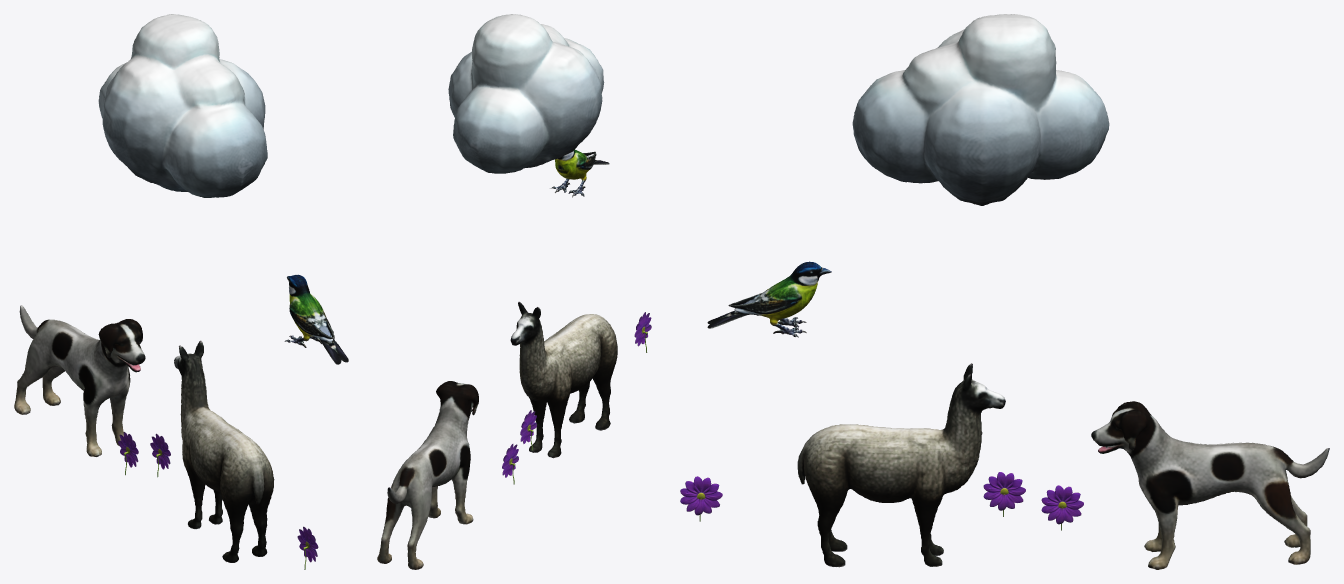
File: llama3.glb
3 renders of one model, left to right at view 1: azimuth 30°, elevation 25°; view 2: azimuth 150°, elevation 25°; view 3: azimuth 270°, elevation 25°, orthographic. The views are drawn at different scales.
Visible parts, largest first — view 1: Mesh_0, Mesh_0.004, Mesh_0.001, Mesh_0.002, Mesh_0.005, Mesh_0.006, Mesh_0.003; view 2: Mesh_0, Mesh_0.004, Mesh_0.001, Mesh_0.002, Mesh_0.006, Mesh_0.003, Mesh_0.005; view 3: Mesh_0, Mesh_0.004, Mesh_0.001, Mesh_0.002, Mesh_0.005, Mesh_0.006, Mesh_0.003.
Part boxes in pixels (x1,y1,x2,y2): Mesh_0: (98,14,267,197); Mesh_0.004: (174,340,274,562); Mesh_0.001: (14,305,145,456); Mesh_0.002: (284,274,348,364); Mesh_0.005: (297,526,318,569); Mesh_0.006: (118,432,138,475); Mesh_0.003: (150,433,170,477); Mesh_0: (448,14,604,173); Mesh_0.004: (510,301,617,458); Mesh_0.001: (377,381,478,569); Mesh_0.002: (550,149,609,197); Mesh_0.006: (502,444,518,484); Mesh_0.003: (520,410,536,450); Mesh_0.005: (634,312,651,352); Mesh_0: (852,14,1109,205); Mesh_0.004: (797,363,1005,567); Mesh_0.001: (1091,401,1329,569); Mesh_0.002: (707,261,831,337); Mesh_0.005: (680,476,722,521); Mesh_0.006: (1041,485,1083,530); Mesh_0.003: (983,472,1025,516).
Size of the model in its own units: 11.19 by 34.33 by 37.38.
5 materials, 5 textured.
